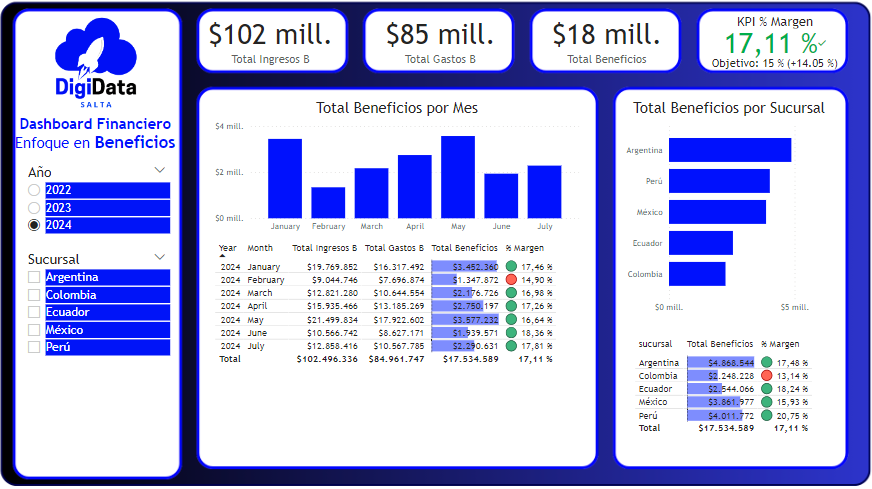

The dashboard page shown, as its layout file describes it:
{"tool":"powerbi","page":{"name":"Beneficios 2 DigiData Salta","canvas":[1280,720],"ordinal":1},"visuals":[{"type":"tableEx","fields":{"Values":["gastos_digidata.fecha.Variación.Date Hierarchy.Year","gastos_digidata.fecha.Variación.Date Hierarchy.Month","ingresos_digiData.Total Ingresos","gastos_digidata.Total Gastos","ingresos_digiData.Total Beneficios","ingresos_digiData.% Margen"]},"box":[313.2,347.2,531.5,306.1],"z":0},{"type":"slicer","fields":{"Values":["gastos_digidata.fecha.Variación.Date Hierarchy.Year"]},"box":[32.6,232.4,221.1,99.2],"z":1000},{"type":"columnChart","title":"Total Beneficios por Mes","fields":{"Category":["gastos_digidata.fecha.Variación.Date Hierarchy.Month"],"Y":["ingresos_digiData.Total Beneficios"]},"box":[313.2,148.8,531.5,198.4],"z":2000},{"type":"card","fields":{"Values":["ingresos_digiData.Total Ingresos"]},"box":[253.7,19.8,289.1,100.6],"z":3000},{"type":"card","fields":{"Values":["gastos_digidata.Total Gastos"]},"box":[500.3,9.9,280.6,121.9],"z":4000},{"type":"card","fields":{"Values":["ingresos_digiData.Total Beneficios"]},"box":[735.6,22.7,290.6,95],"z":5000},{"type":"card","fields":{"Values":["ingresos_digiData.% Margen"]},"box":[975.1,22.7,289.1,95],"z":6000},{"type":"image","box":[58.1,25.5,178.6,140.3],"z":7000},{"type":"textbox","box":[32.5,165,236.2,65],"z":8000}]}

Visuals, with their boxes in screenshot pixels (x1, y1, x2, y2), scaled from the page's 1280x720 canvas onto the 872x489 screenshot:
tableEx - gastos_digidata.fecha.Variación.Date Hierarchy.Year x gastos_digidata.fecha.Variación.Date Hierarchy.Month: select_region(213, 236, 575, 444)
slicer - gastos_digidata.fecha.Variación.Date Hierarchy.Year: select_region(22, 158, 173, 225)
"Total Beneficios por Mes" columnChart: select_region(213, 101, 575, 236)
card - ingresos_digiData.Total Ingresos: select_region(173, 13, 370, 82)
card - gastos_digidata.Total Gastos: select_region(341, 7, 532, 90)
card - ingresos_digiData.Total Beneficios: select_region(501, 15, 699, 80)
card - ingresos_digiData.% Margen: select_region(664, 15, 861, 80)
image: select_region(40, 17, 161, 113)
textbox: select_region(22, 112, 183, 156)
